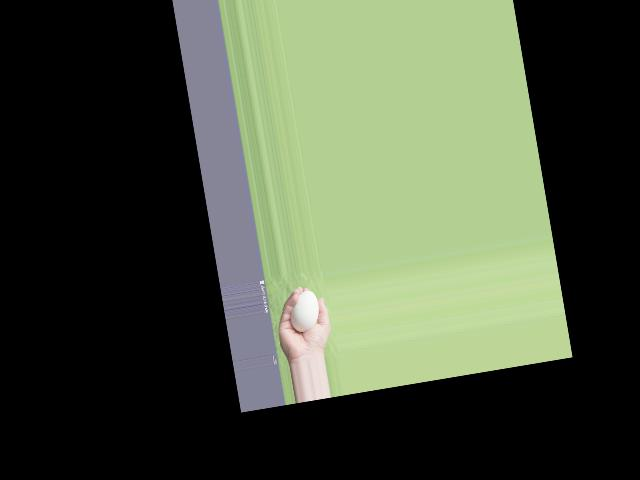egg: (285, 289, 322, 334)
